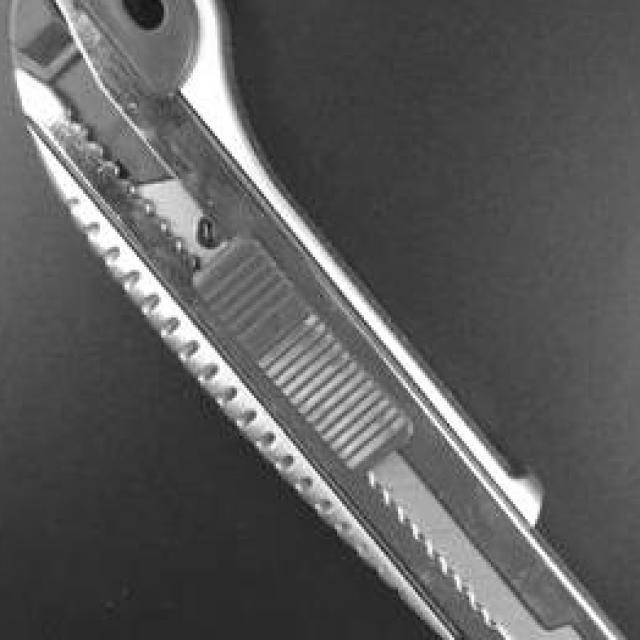estilete: (8, 0, 620, 640)
